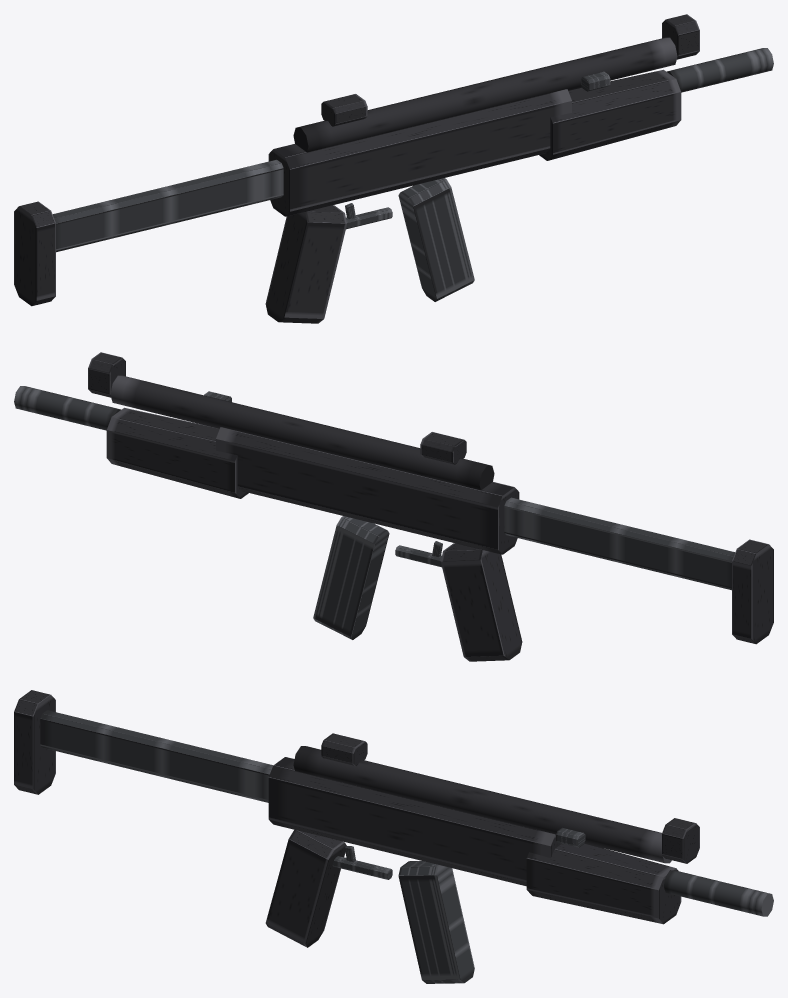
The picture shows the model from 3 angles, top to bottom: view 1: azimuth 30°, elevation 25°; view 2: azimuth 150°, elevation 25°; view 3: azimuth 330°, elevation 25°; orthographic projection.
Visible parts, largest first — view 1: MP5_1P; view 2: MP5_1P; view 3: MP5_1P.
Part boxes in pixels (x1,y1,x2,y2): MP5_1P: (14, 14, 773, 323); MP5_1P: (14, 352, 773, 661); MP5_1P: (14, 690, 773, 983).
Size of the model in its own units: 0.684 by 0.1929 by 0.047.
Materials: 1 (1 with a texture image).
